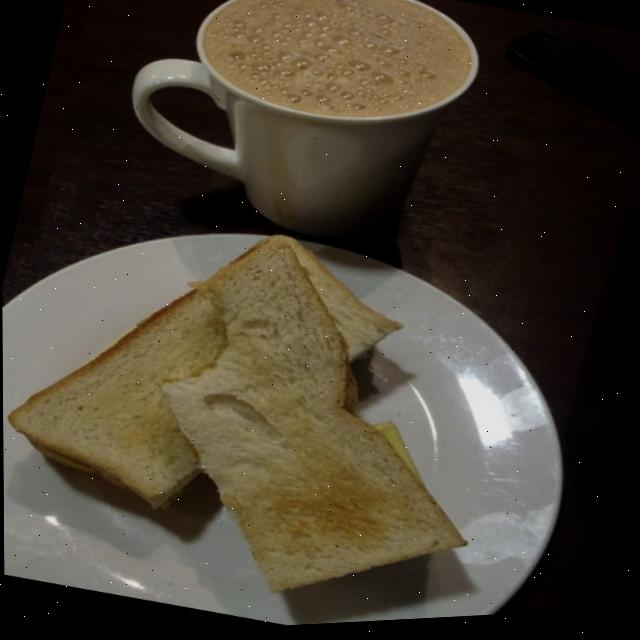面包点心: (1, 179, 534, 640)
